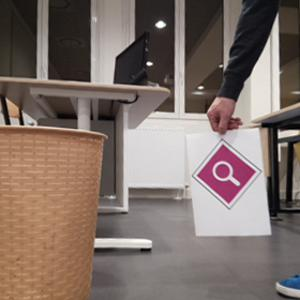search: (191, 137, 263, 212)
